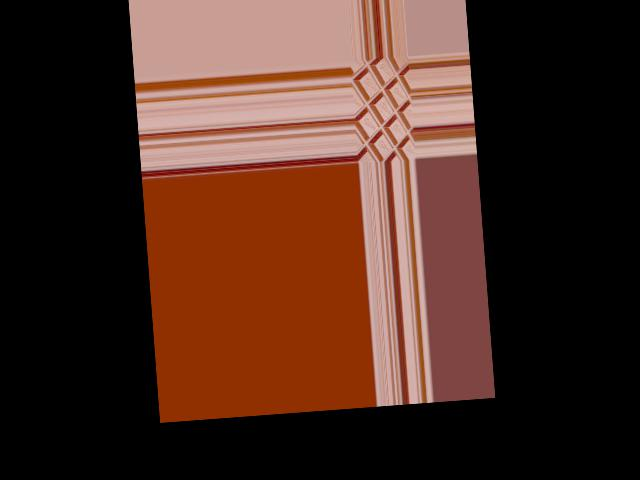chocolate: (349, 56, 413, 160)
